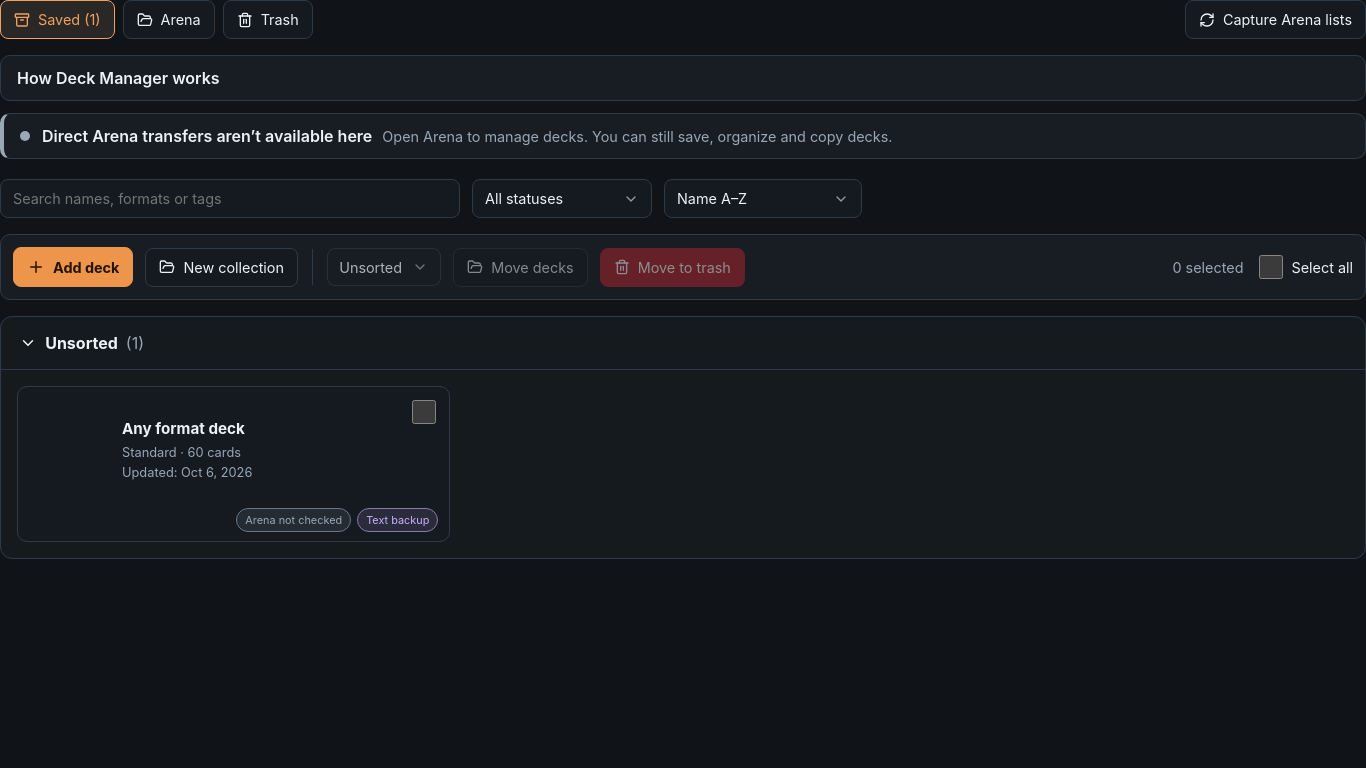
Test case: Deck Manager › keeps a revision format that is not in the format list
Click the button "Any format deck Standard · 60 cards Updated: Oct 6, 2026" at [234, 464], box left=17, top=386, right=450, bottom=542
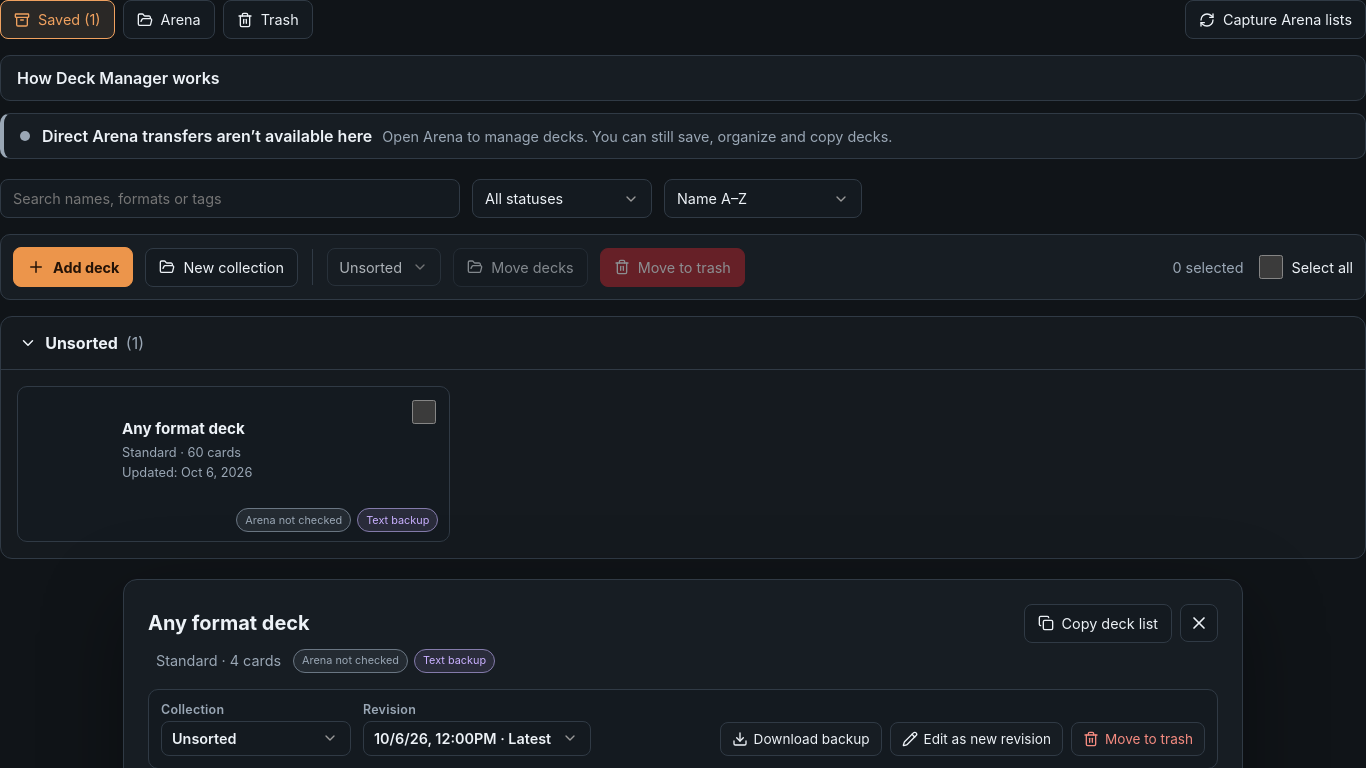
Click the button "Edit as new revision" at [976, 739], box left=890, top=722, right=1063, bottom=756
(page scrolled)
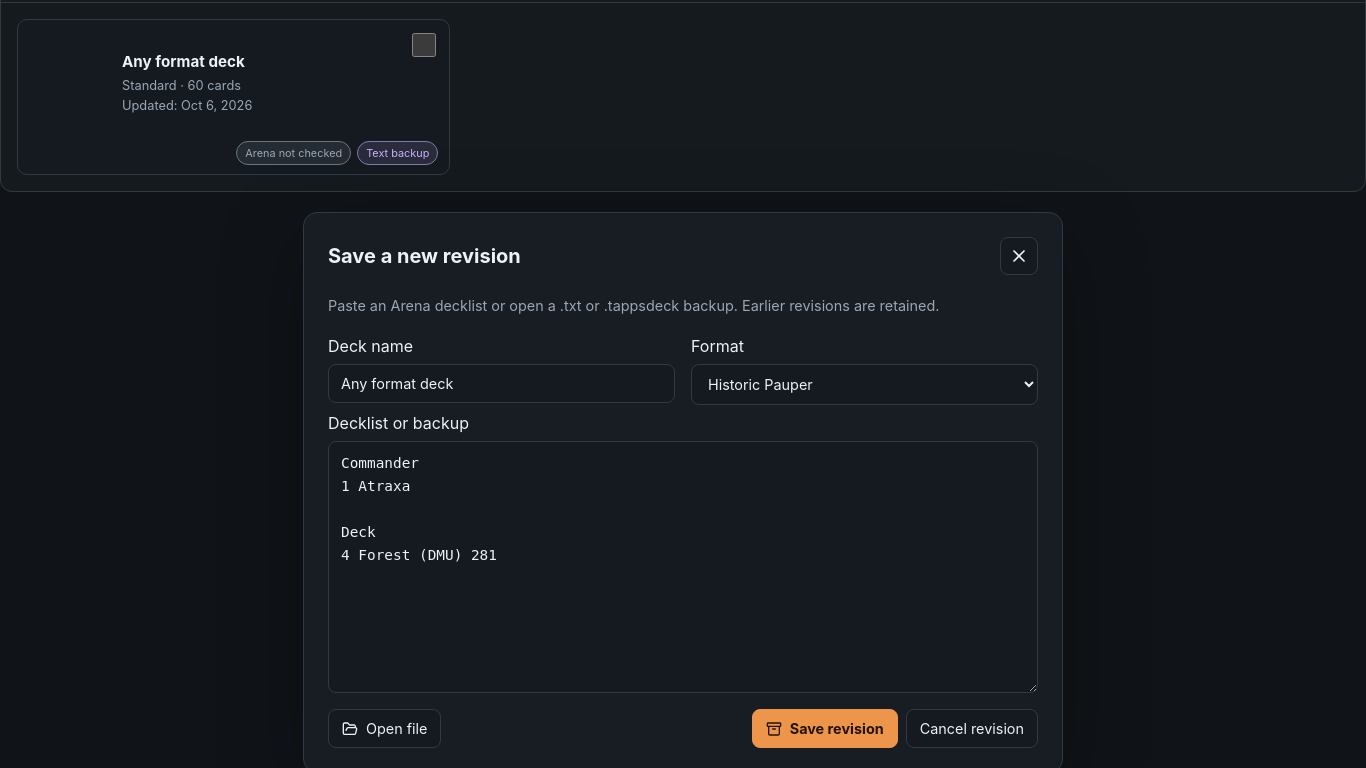
Result: the dropdown labelled "Format" shows "Historic Pauper" at left=691, top=364, right=1038, bottom=405
